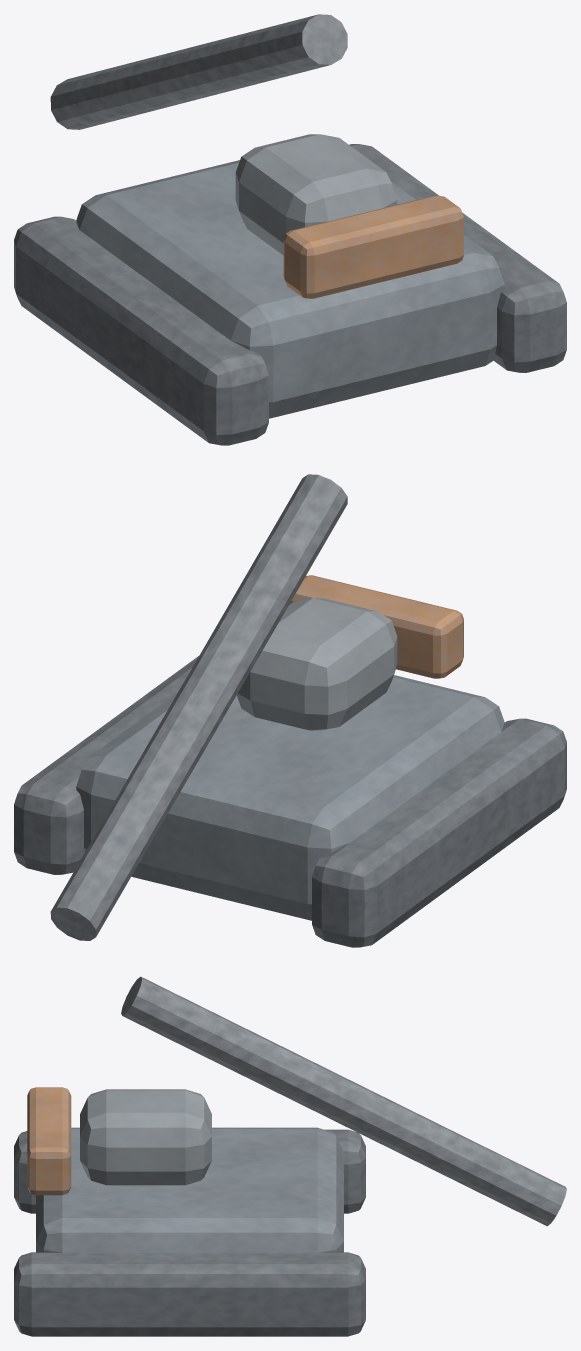
Rendered from dir_howitzer.glb.
3 renders of one model, top to bottom at view 1: azimuth 30°, elevation 25°; view 2: azimuth 150°, elevation 25°; view 3: azimuth 270°, elevation 25°, orthographic. The views are drawn at different scales.
Visible parts, largest first — view 1: dir_howitzer; view 2: dir_howitzer; view 3: dir_howitzer.
Boxes of the visible parts, x1=… form: dir_howitzer: x1=14, y1=14, x2=566, y2=445; dir_howitzer: x1=14, y1=474, x2=566, y2=947; dir_howitzer: x1=14, y1=976, x2=566, y2=1336.
Bounding box in the file's own units: 0.8 × 0.7276 × 1.26.
Materials: 1 (1 with a texture image).
